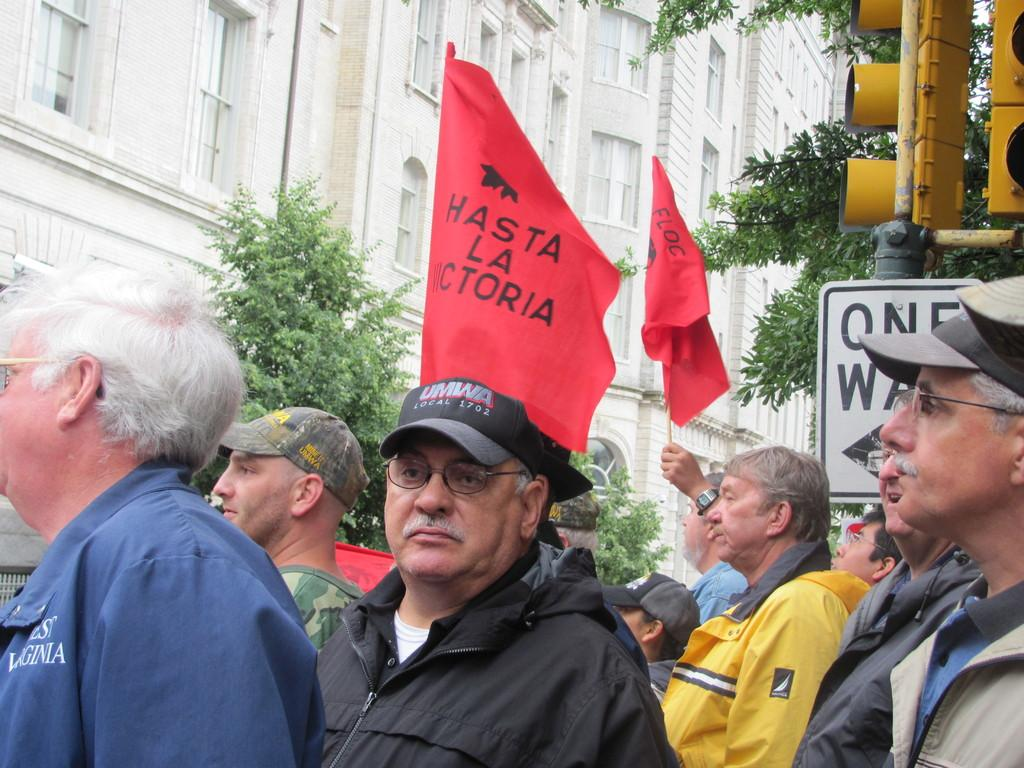Hat: (215, 407, 374, 512), (378, 376, 532, 476), (865, 318, 1018, 392), (598, 567, 704, 648), (956, 276, 1022, 328)
